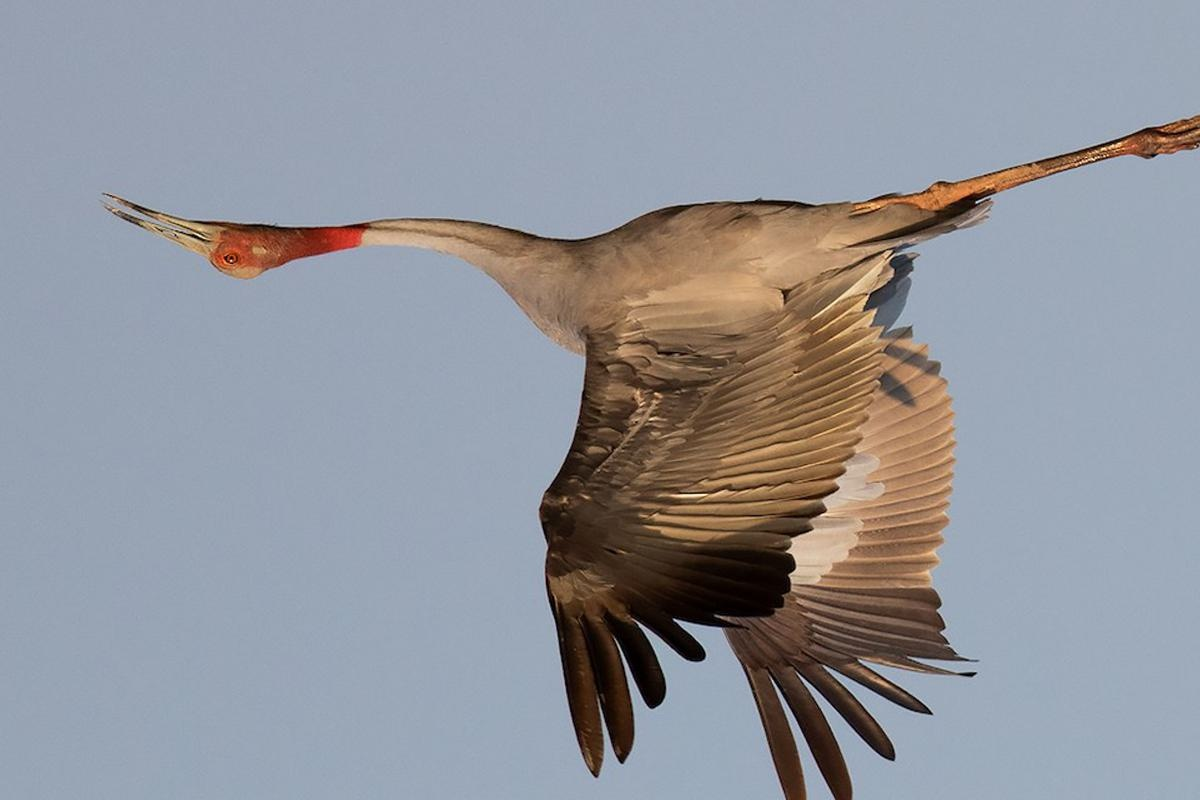crane: (87, 132, 1198, 768)
